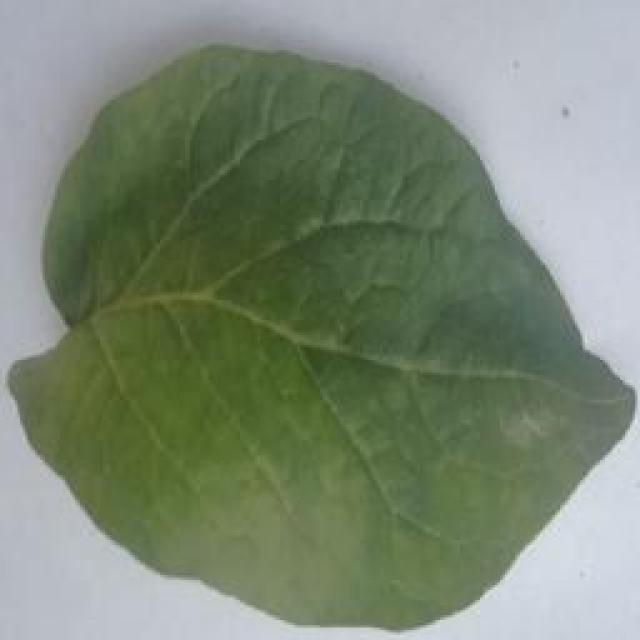Potato_Healthy: (14, 45, 630, 629)
